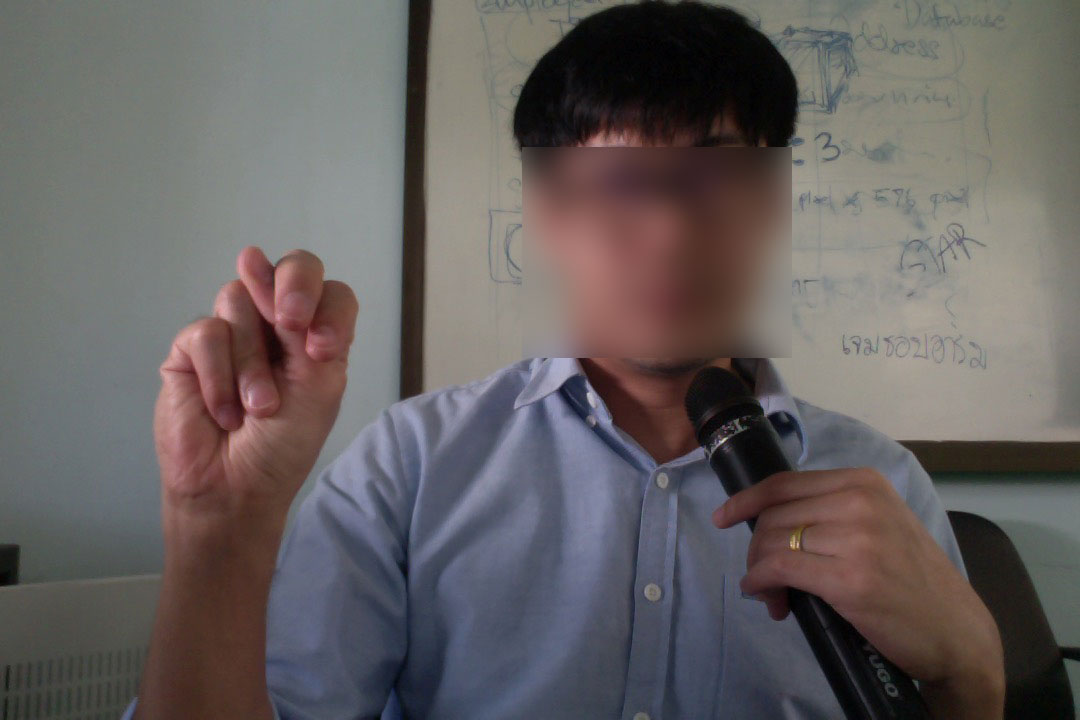nor: (145, 238, 363, 545)
